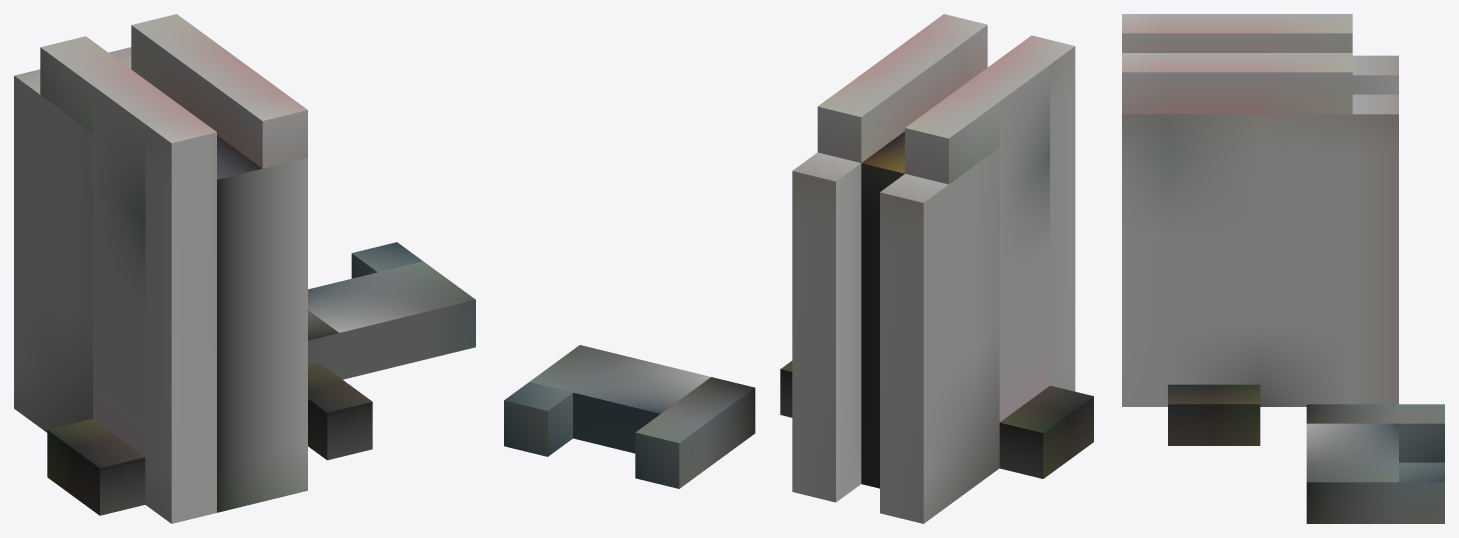
Rendered from GameConsole_00.fbx.
The picture shows the model from 3 angles, left to right: view 1: azimuth 30°, elevation 25°; view 2: azimuth 150°, elevation 25°; view 3: azimuth 270°, elevation 25°; orthographic projection. The views are drawn at different scales.
Parts seen in each view (by area): view 1: GameConsole_00; view 2: GameConsole_00; view 3: GameConsole_00.
Part boxes in pixels (x1=…): GameConsole_00: x1=14, y1=14, x2=475, y2=523; GameConsole_00: x1=504, y1=14, x2=1093, y2=523; GameConsole_00: x1=1122, y1=14, x2=1444, y2=523.
Size of the model in its own units: 50 by 35 by 40.
Materials: 1 (1 with a texture image).
